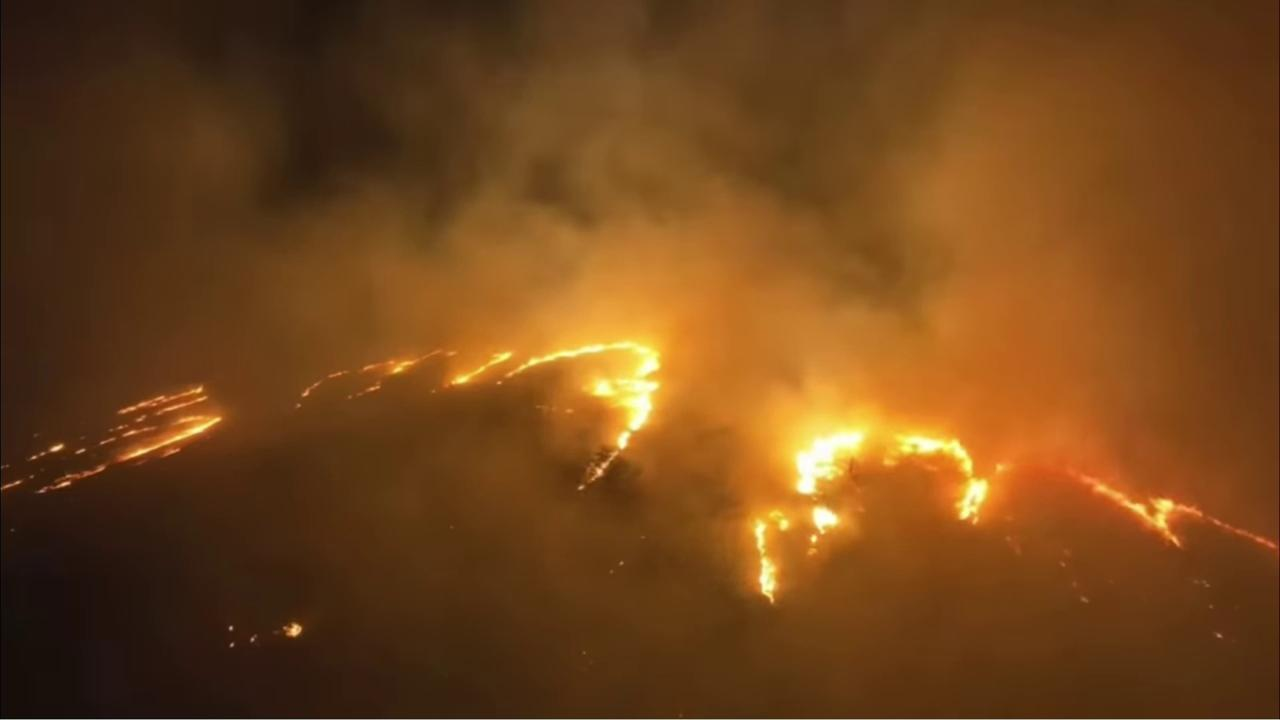fire: (792, 424, 1280, 560), (358, 334, 669, 494), (0, 380, 226, 497), (750, 505, 791, 608), (300, 369, 351, 396), (274, 619, 304, 641), (1211, 631, 1224, 642), (249, 633, 260, 644), (227, 624, 235, 634), (229, 641, 236, 648)
smoke: (0, 0, 1280, 720)
